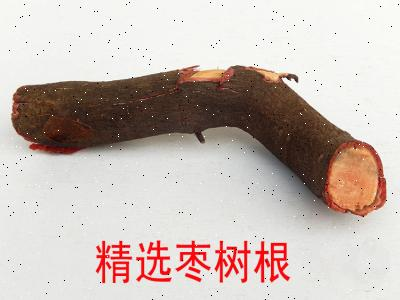Root: (11, 66, 386, 216)
